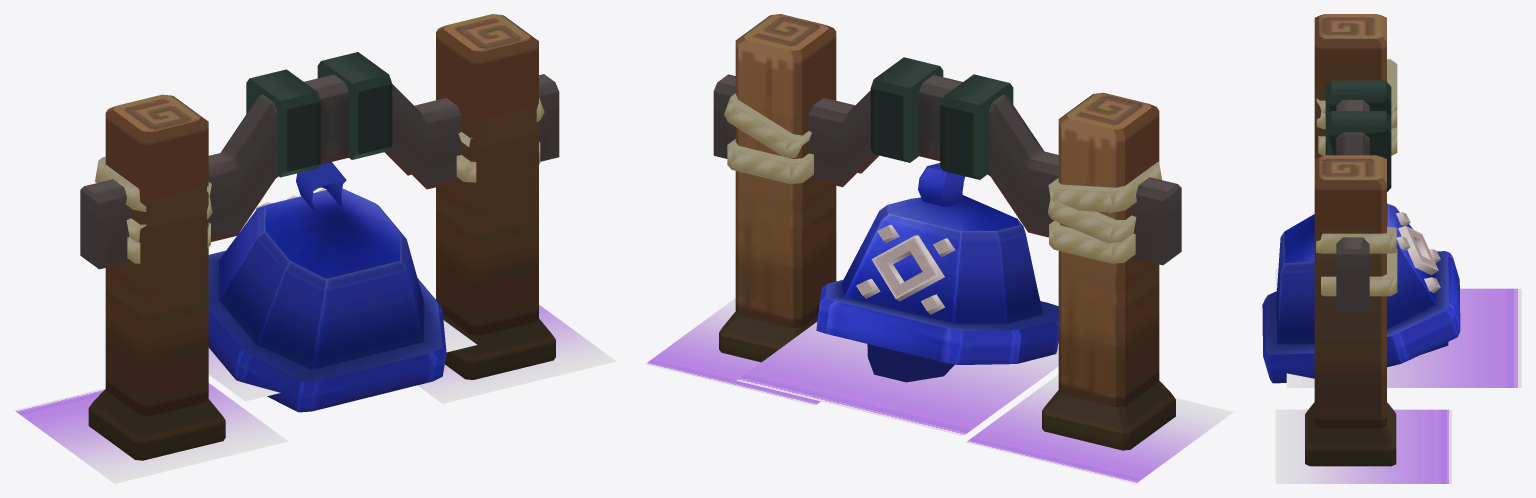
The model's file is [gimmick]bell_navy.fbx.
3 renders of one model, left to right at view 1: azimuth 30°, elevation 25°; view 2: azimuth 150°, elevation 25°; view 3: azimuth 270°, elevation 25°, orthographic. The views are drawn at different scales.
Visible parts, largest first — view 1: [gimmick]bell_navy, bell_navy, shadow2, shadow1, shadow; view 2: [gimmick]bell_navy, bell_navy, shadow, shadow2, shadow1; view 3: [gimmick]bell_navy, bell_navy, shadow, shadow1.
Boxes of the visible parts, x1,y1,x2,y2 form: [gimmick]bell_navy: [80, 14, 559, 460]; bell_navy: [208, 162, 446, 412]; shadow2: [14, 383, 288, 483]; shadow1: [417, 305, 616, 403]; shadow: [208, 320, 476, 401]; [gimmick]bell_navy: [713, 14, 1181, 450]; bell_navy: [816, 163, 1058, 382]; shadow: [736, 322, 1058, 435]; shadow2: [966, 374, 1233, 483]; shadow1: [645, 298, 820, 405]; [gimmick]bell_navy: [1305, 14, 1397, 466]; bell_navy: [1262, 203, 1460, 383]; shadow: [1286, 288, 1521, 387]; shadow1: [1275, 409, 1451, 483].
Bounding box in the file's own units: 2.59 × 1.59 × 1.32.
